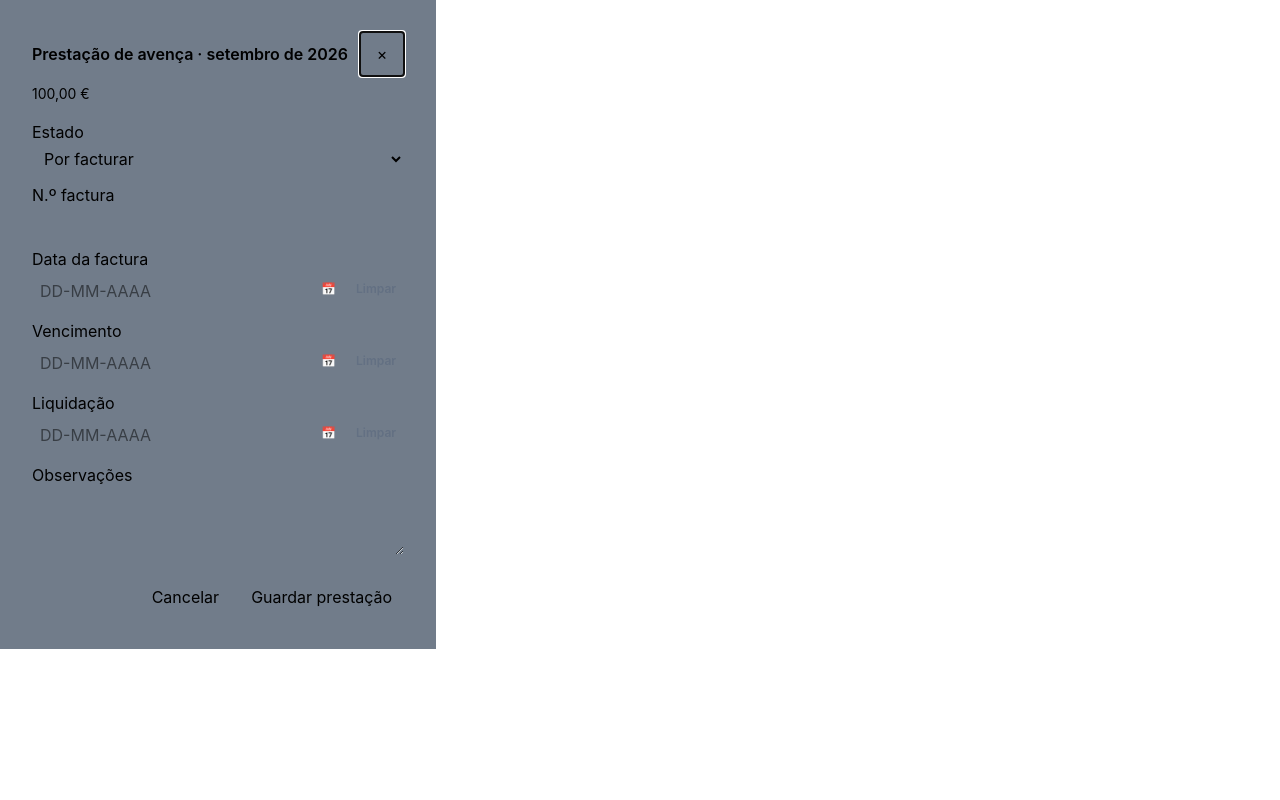
Test: facturação em Pagamentos não permite liquidar ou inventar a data
The width and height of the screenshot is (1280, 800).
Select "Facturada" in the dropdown labelled "Estado": (218,159) [32, 148, 404, 170]
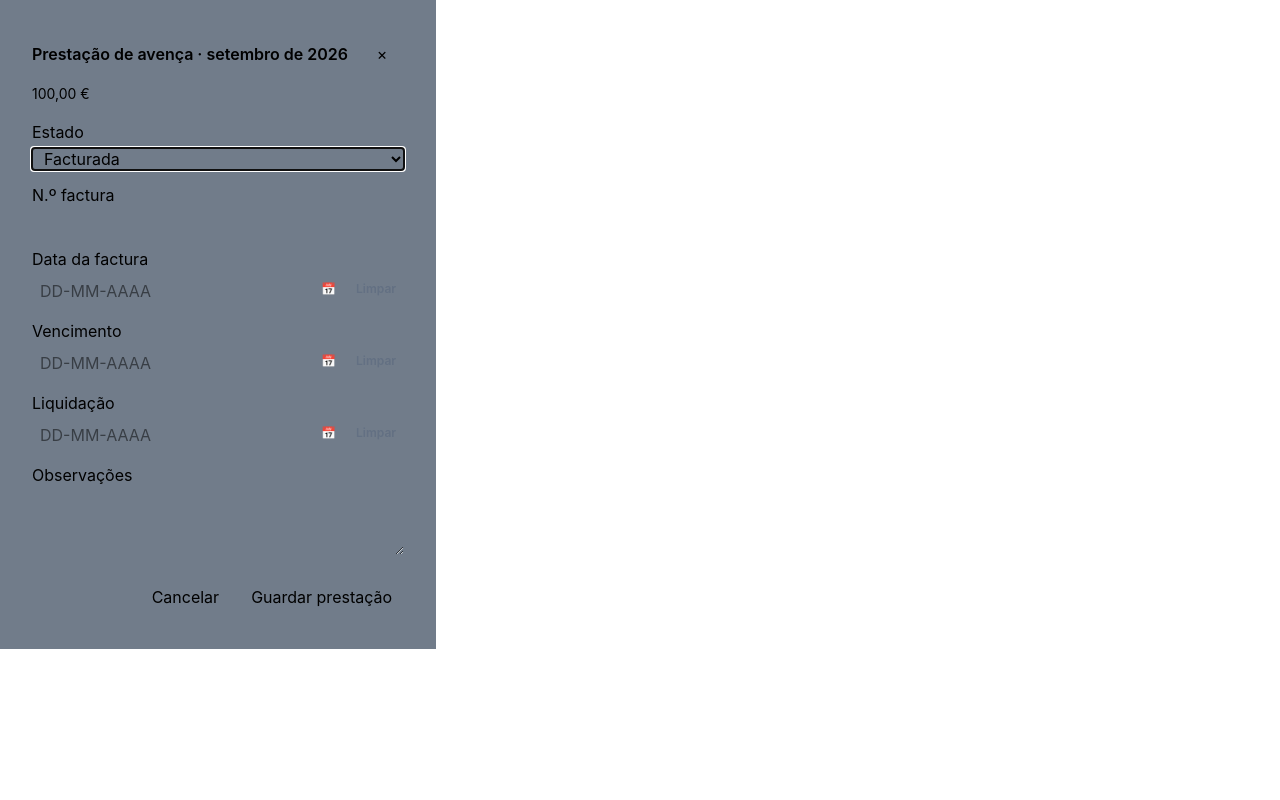
Click the button "Guardar prestação": (322,597) [239, 577, 404, 617]
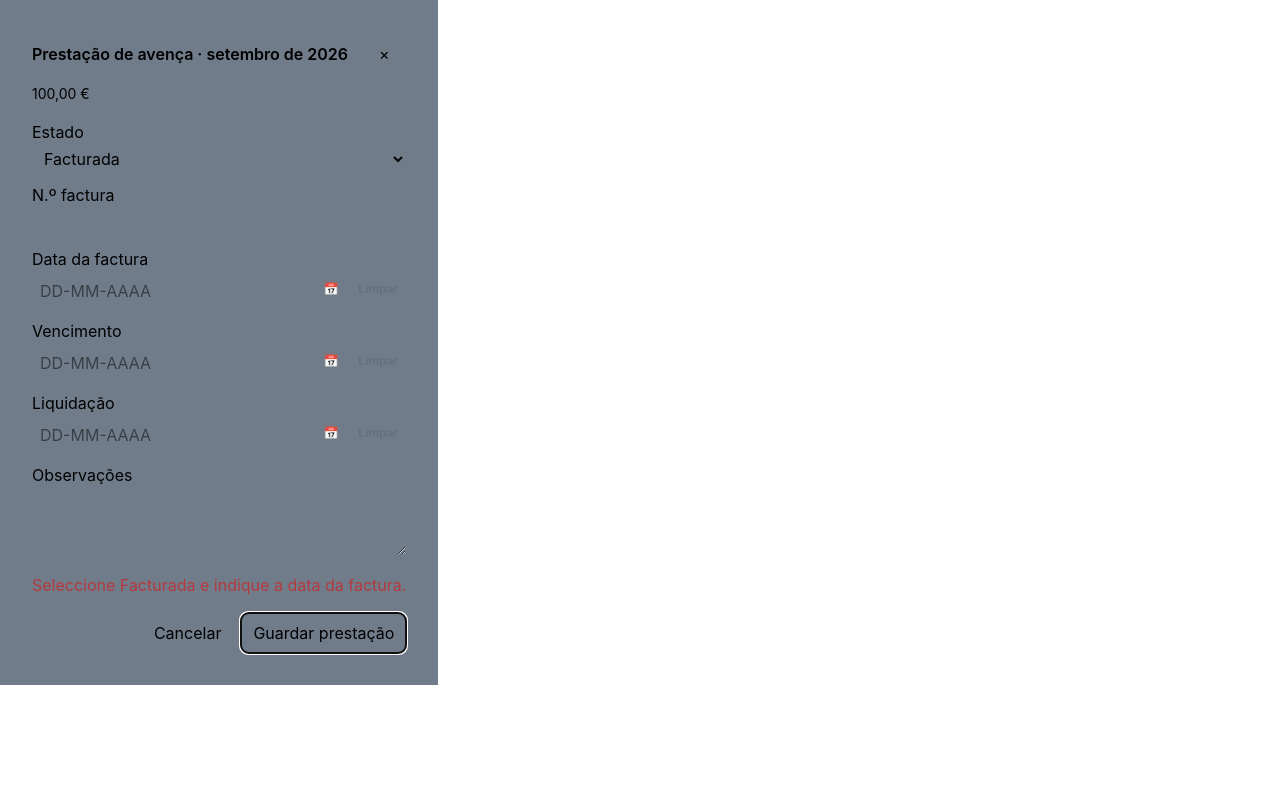
Now the message shows "data da factura", box [32, 575, 406, 595]
